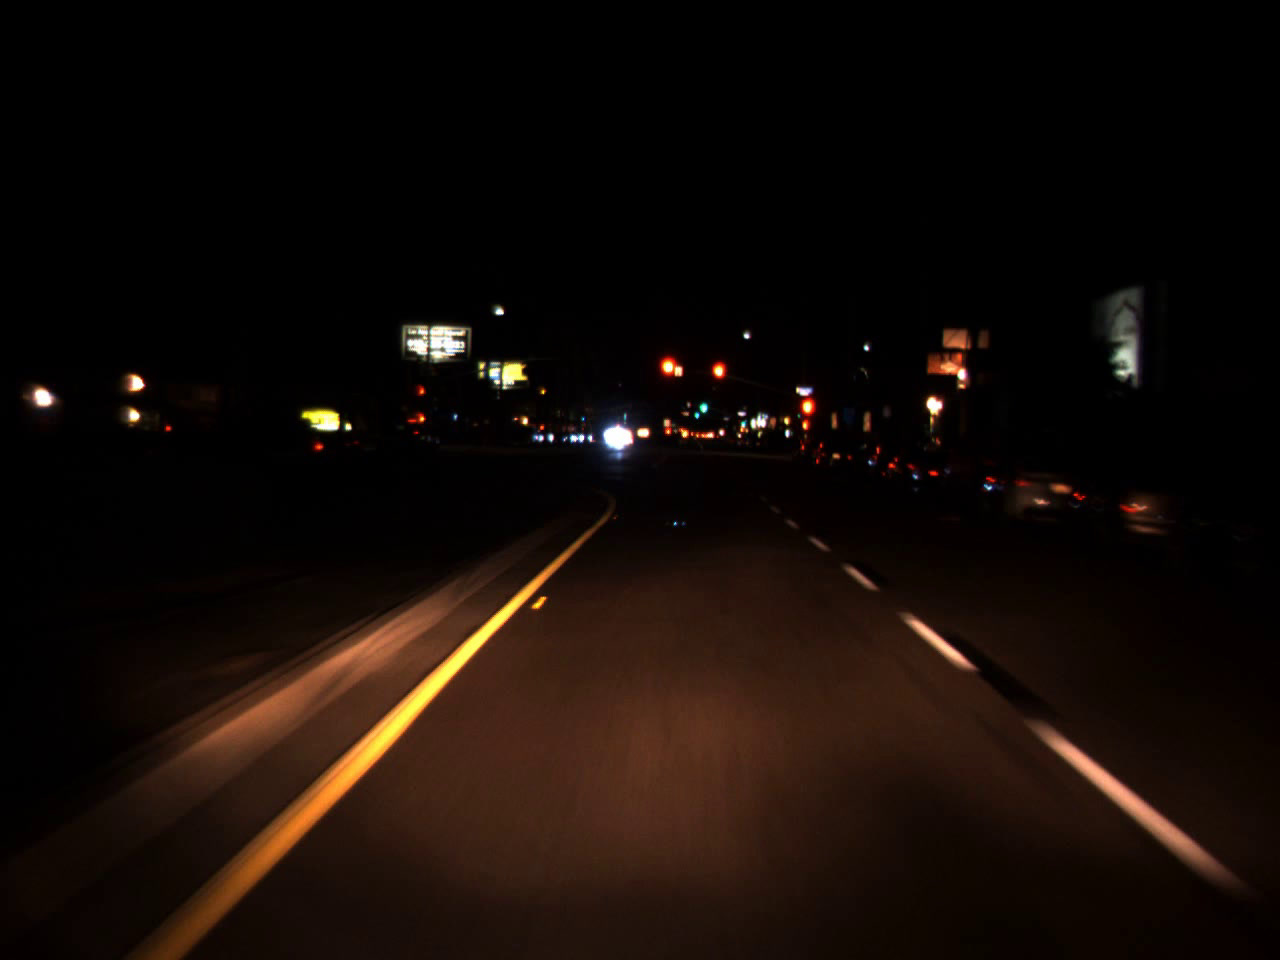go: (697, 392, 707, 416), (693, 408, 700, 419)
stop: (656, 353, 681, 398), (799, 393, 817, 438), (710, 359, 728, 399), (418, 386, 427, 402)
